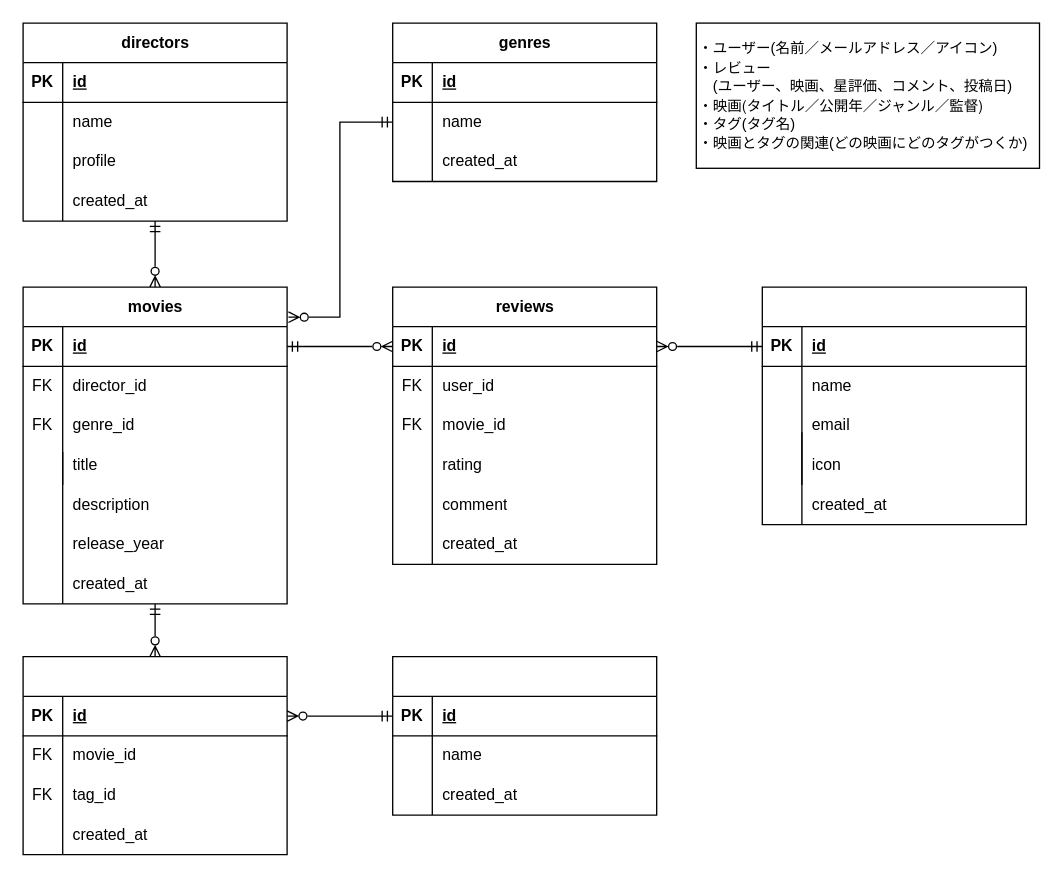
The diagram is 1063 pixels wide and 878 high, and some of its shapes have lost their labels. The box of each missing label's shape, as (x1, y1, x2, y2) in pixels:
movie_tags: (22, 655, 287, 855)
tags: (391, 655, 657, 815)
users: (761, 286, 1026, 525)
